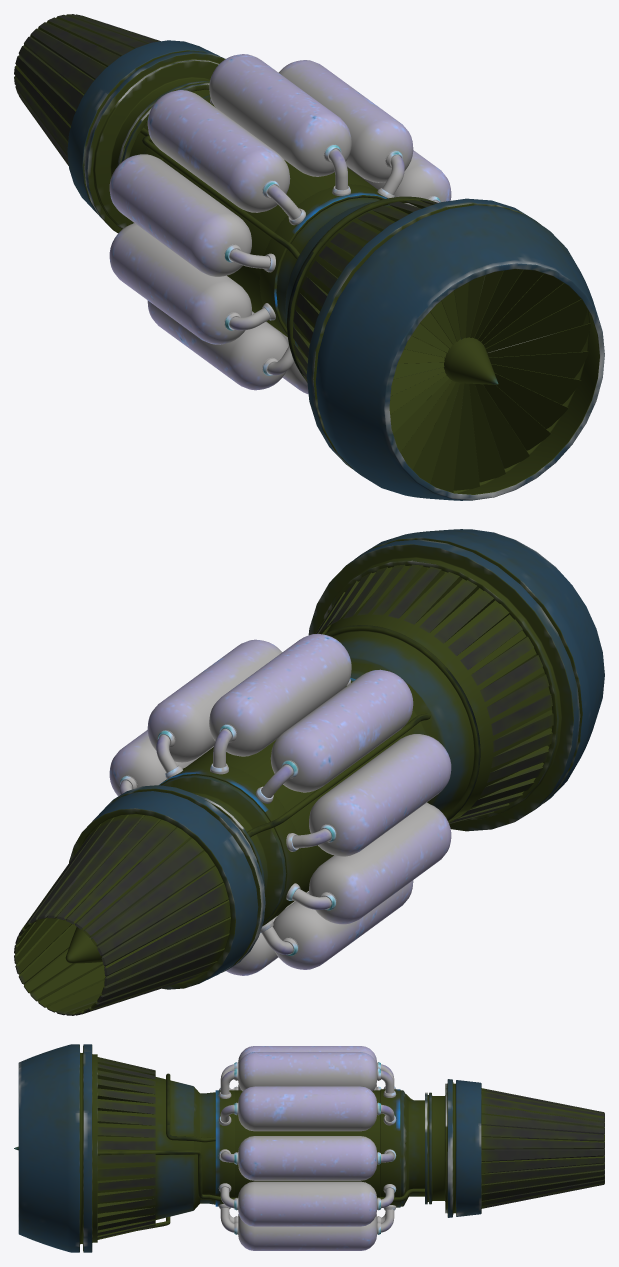
Rendered from Engine.fbx.
3 renders of one model, top to bottom at view 1: azimuth 30°, elevation 25°; view 2: azimuth 150°, elevation 25°; view 3: azimuth 270°, elevation 25°, orthographic. The views are drawn at different scales.
Parts seen in each view (by area): view 1: Cylinder, Cylinder.001; view 2: Cylinder, Cylinder.001; view 3: Cylinder, Cylinder.001.
Part boxes in pixels (x1,y1,x2,y2): Cylinder: (14, 14, 604, 500); Cylinder.001: (109, 54, 451, 394); Cylinder: (14, 529, 604, 1015); Cylinder.001: (109, 633, 451, 975); Cylinder: (14, 1044, 604, 1252); Cylinder.001: (218, 1046, 396, 1250).
Size of the model in its own units: 4.78 by 4.78 by 13.54.
